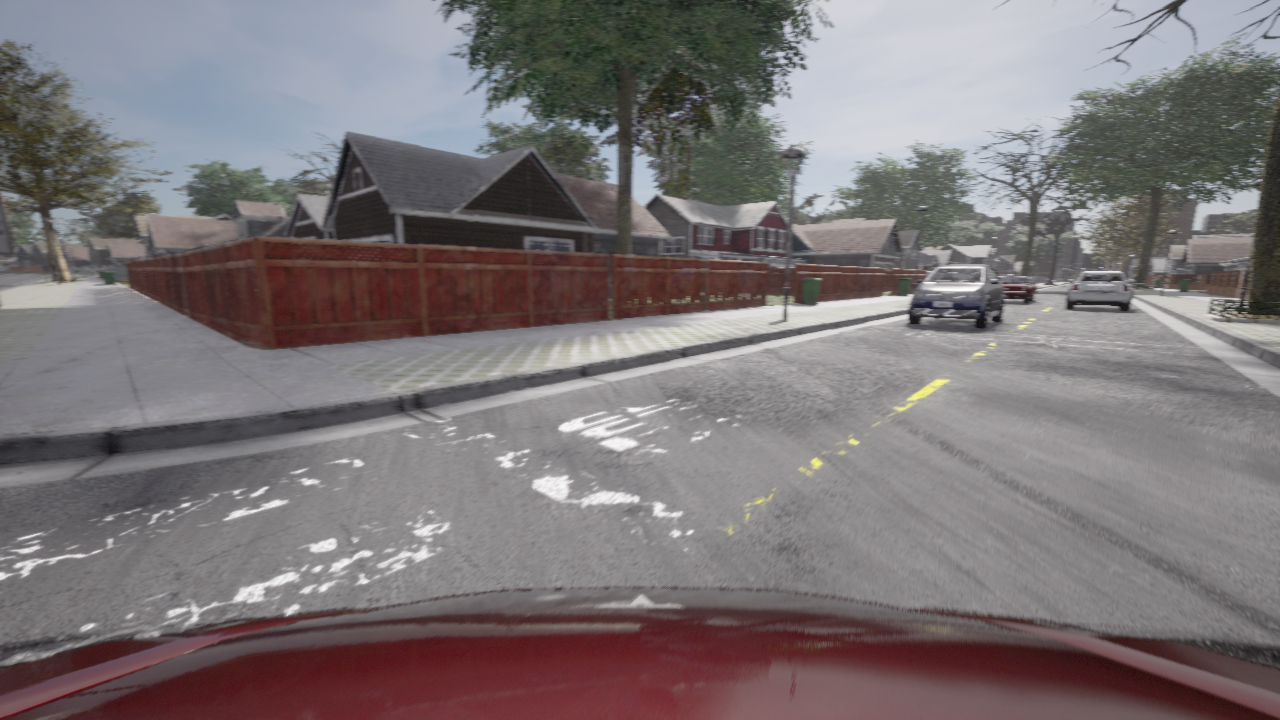cyclist: (0, 588, 1279, 719), (908, 264, 1004, 328), (1065, 271, 1134, 310), (999, 276, 1036, 303)
